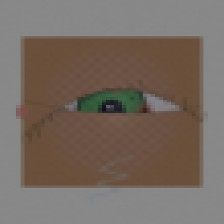foreign_body_visible: (125, 97, 163, 127)
